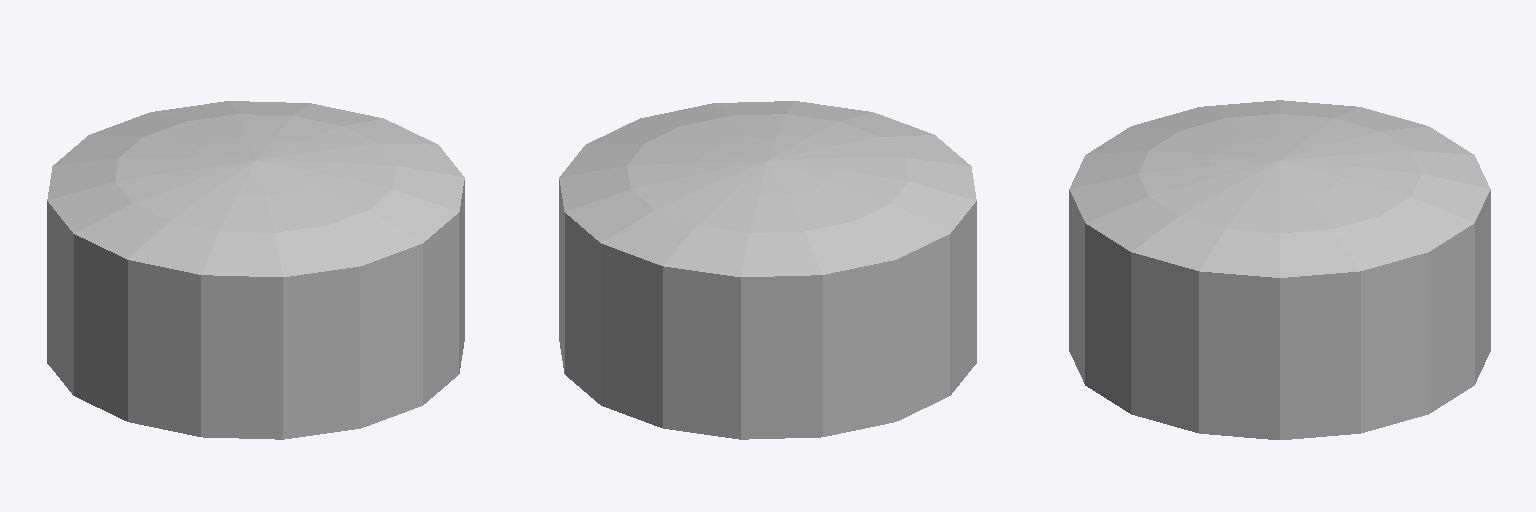
Rendered from editor_controller_button_y.sgm.obj.
3 renders of one model, left to right at view 1: azimuth 30°, elevation 25°; view 2: azimuth 150°, elevation 25°; view 3: azimuth 270°, elevation 25°, orthographic.
Visible parts, largest first — view 1: 0; view 2: 0; view 3: 0.
Boxes of the visible parts, <box> form: 0: <box>47,101,464,439</box>; 0: <box>559,101,976,439</box>; 0: <box>1069,100,1490,439</box>.
Bounding box in the file's own units: 0.01 × 0.005 × 0.01.